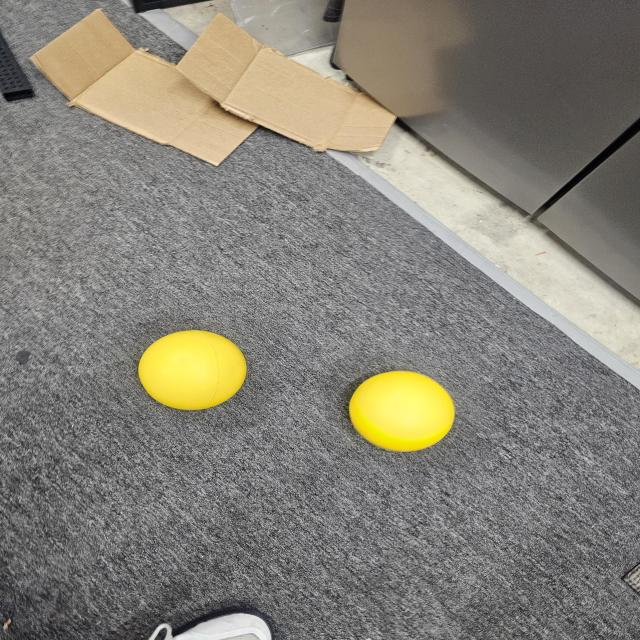Fuel: (341, 365, 462, 460), (134, 324, 254, 414)
